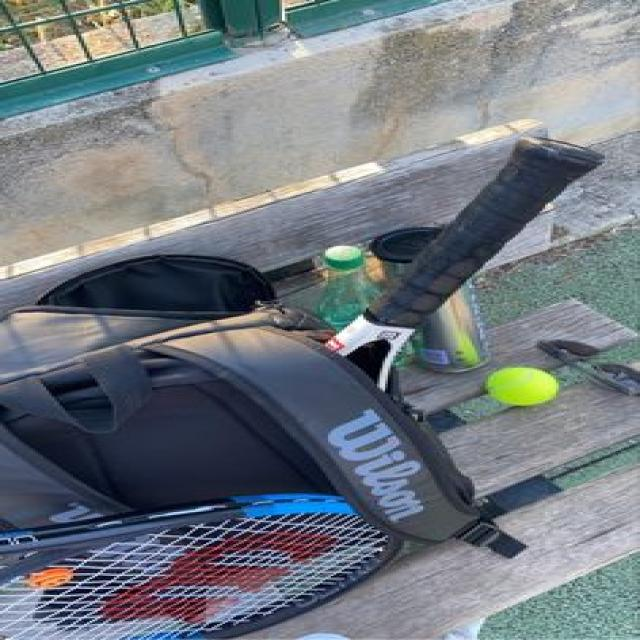tennis: (481, 365, 564, 406)
